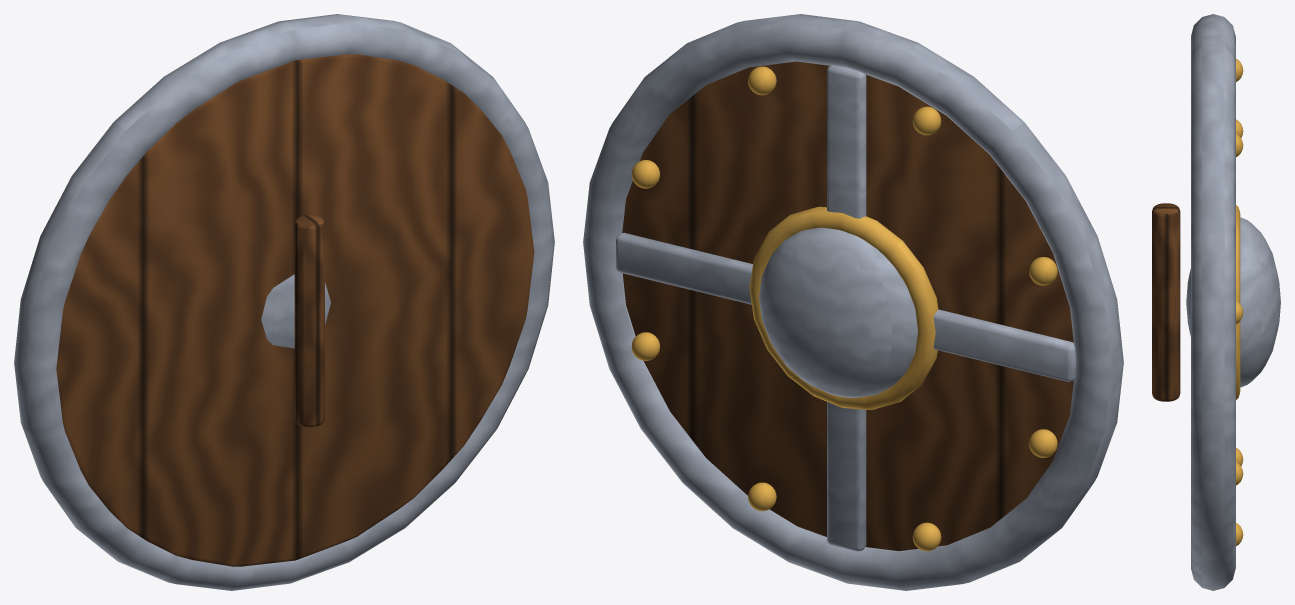
File: iron_shield.glb
3 views of the same model, side by side, from view 1: azimuth 30°, elevation 25°; view 2: azimuth 150°, elevation 25°; view 3: azimuth 270°, elevation 25° (orthographic). The views are drawn at different scales.
Parts seen in each view (by area): view 1: ShieldWood, ShieldRim, BackHandle, BossDome; view 2: ShieldWood, ShieldRim, BossDome, StrapV, StrapH, BossRing; view 3: ShieldRim, BackHandle, BossDome, BossRing.
Boxes of the visible parts, x1=… form: ShieldWood: x1=56, y1=54, x2=534, y2=566; ShieldRim: x1=14, y1=14, x2=554, y2=590; BackHandle: x1=294, y1=214, x2=324, y2=427; BossDome: x1=261, y1=274, x2=330, y2=348; ShieldWood: x1=622, y1=61, x2=1073, y2=551; ShieldRim: x1=583, y1=14, x2=1123, y2=590; BossDome: x1=759, y1=227, x2=918, y2=397; StrapV: x1=827, y1=65, x2=866, y2=551; StrapH: x1=616, y1=232, x2=1075, y2=381; BossRing: x1=749, y1=206, x2=938, y2=409; ShieldRim: x1=1191, y1=14, x2=1235, y2=590; BackHandle: x1=1152, y1=203, x2=1180, y2=401; BossDome: x1=1186, y1=217, x2=1280, y2=387; BossRing: x1=1236, y1=205, x2=1240, y2=399.
Size of the model in its own units: 0.77 by 0.77 by 0.1721.
Materials: 5 (5 with a texture image).
